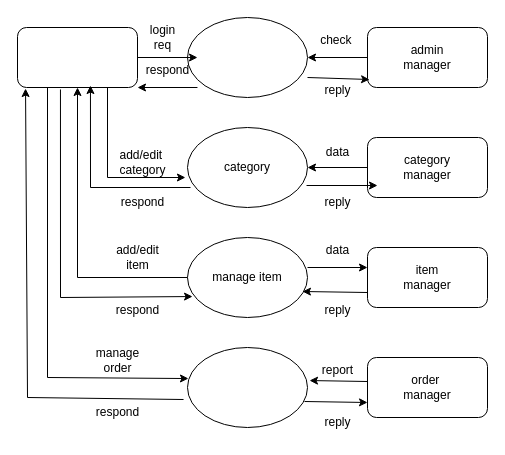
The diagram is 505 pixels wide and 455 high, and some of its shapes have lost their labels. The shapes that lost their labels are listed below. From the top down, each one's centre as x and y in pixels, then its label:
point (77, 57): customer
point (247, 57): login
point (247, 387): order
